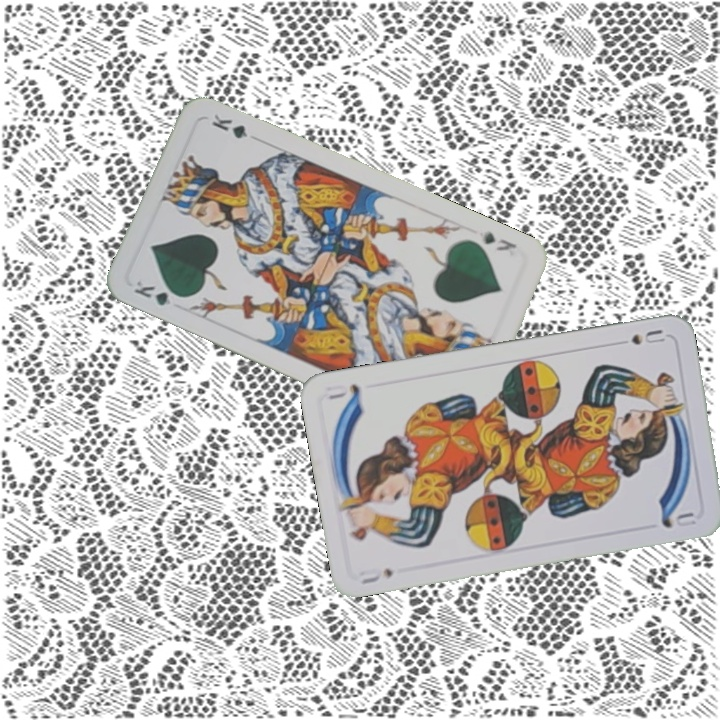GK: (129, 276, 187, 309), (479, 227, 519, 254)
SU: (627, 325, 667, 348), (357, 564, 396, 587)
